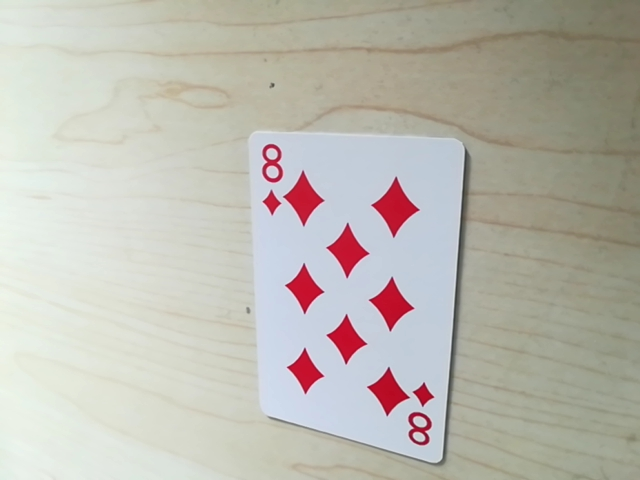fk 8: (256, 137, 289, 221), (409, 384, 444, 456)
